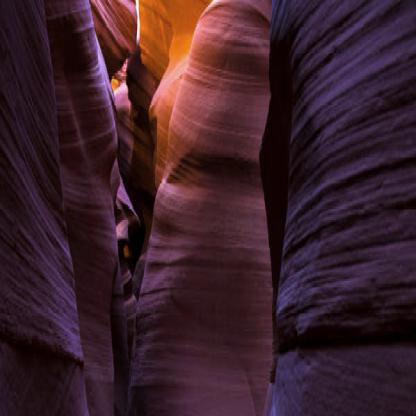Sedimentary_Sandstone: (267, 6, 415, 415), (138, 6, 262, 408), (1, 5, 81, 414)
